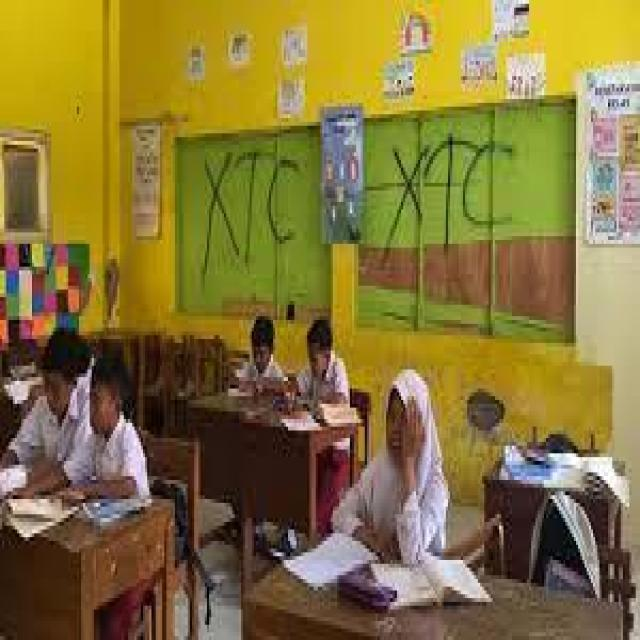nonspitting: (384, 133, 515, 265), (198, 148, 301, 284)
